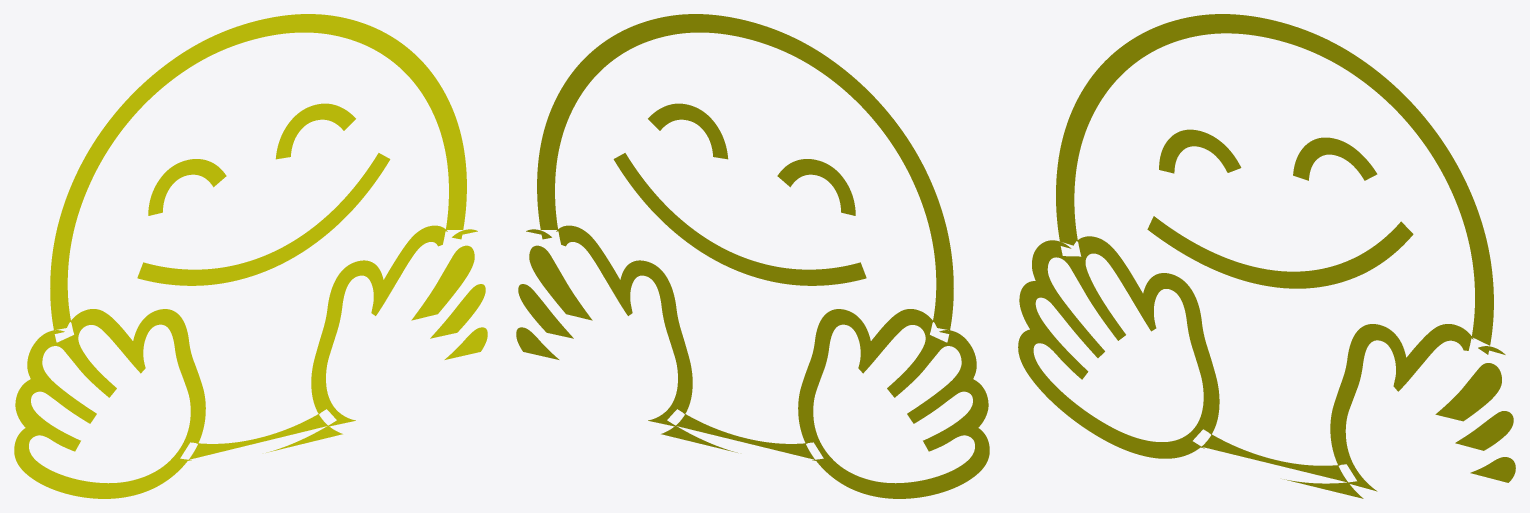
File: hugging_face.glb
The picture shows the model from 3 angles, left to right: view 1: azimuth 30°, elevation 25°; view 2: azimuth 150°, elevation 25°; view 3: azimuth 330°, elevation 25°; orthographic projection. The views are drawn at different scales.
Visible parts, largest first — view 1: Text.880_880; view 2: Text.880_880; view 3: Text.880_880.
Part boxes in pixels (x1,y1,x2,y2): Text.880_880: (14,14,487,498); Text.880_880: (516,14,989,498); Text.880_880: (1018,14,1515,498).
Bounding box in the file's own units: 1.16 × 1.04 × 3.68e-06.
